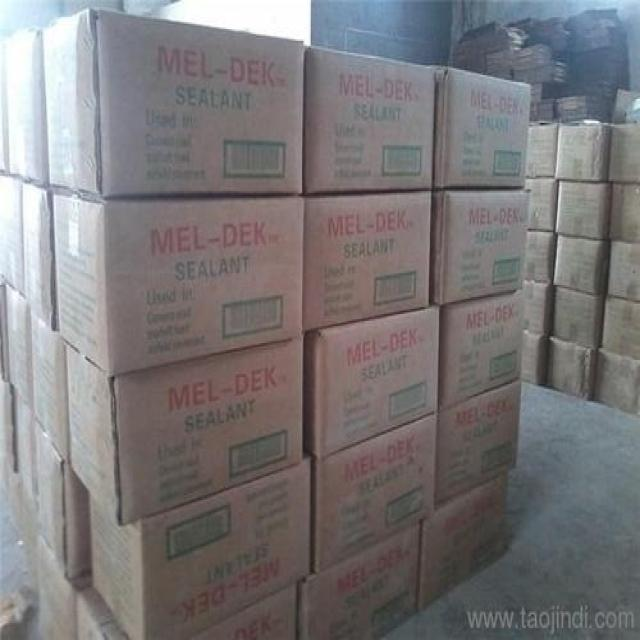Carton: (47, 189, 308, 638), (315, 193, 524, 459), (38, 7, 301, 198), (298, 422, 433, 638), (307, 49, 430, 193), (305, 196, 433, 329), (440, 65, 526, 184), (436, 379, 518, 500), (439, 292, 520, 406)
